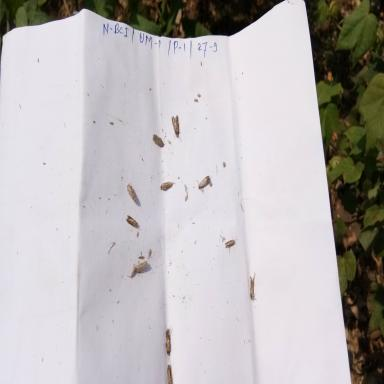pbw: (122, 180, 148, 211), (246, 267, 263, 309), (156, 175, 178, 201), (122, 213, 144, 237), (134, 251, 152, 280), (150, 129, 166, 158), (162, 327, 176, 359), (222, 233, 240, 257), (170, 114, 184, 144), (197, 172, 212, 196), (164, 362, 179, 378), (130, 262, 138, 280)
